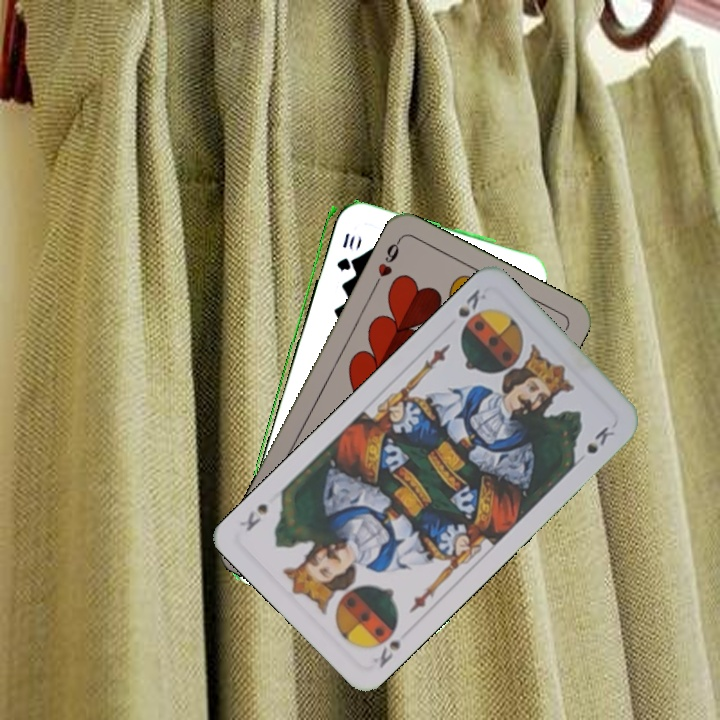G10: (332, 229, 352, 274)
H9: (370, 235, 404, 290)
SK: (369, 635, 405, 671), (454, 285, 489, 320)
